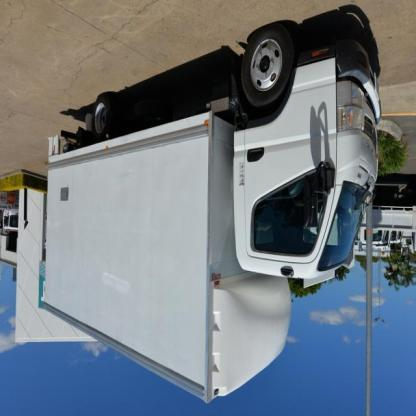truck: (43, 26, 383, 406)
